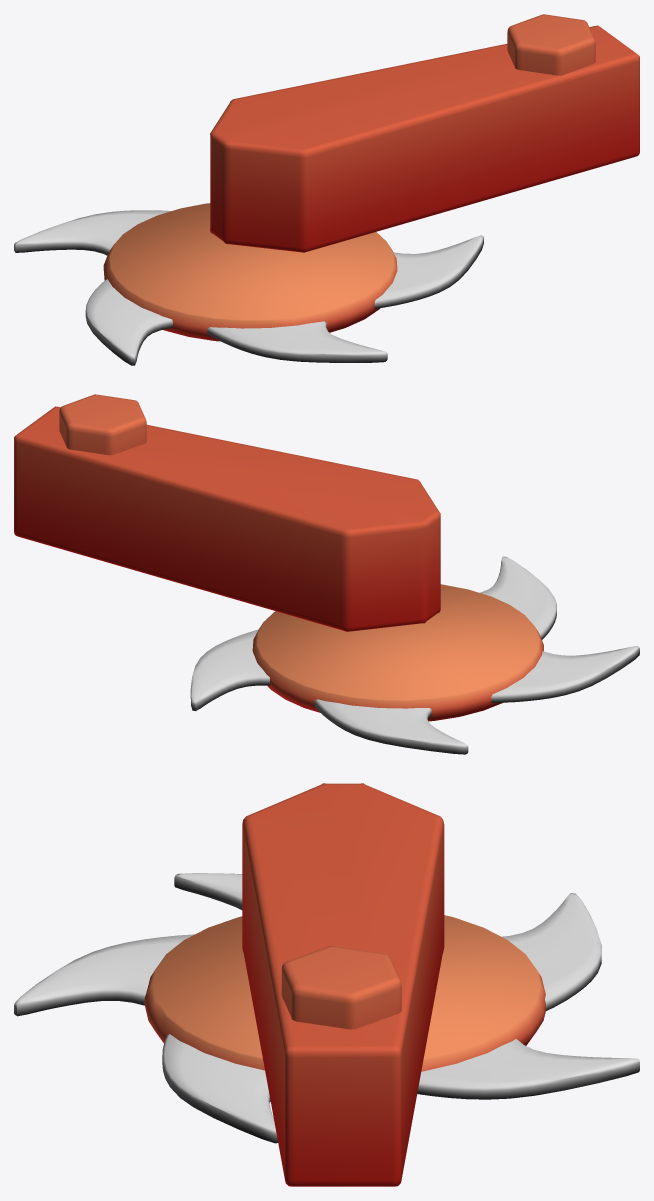
The model's file is testere.fbx.
The picture shows the model from 3 angles, top to bottom: view 1: azimuth 30°, elevation 25°; view 2: azimuth 150°, elevation 25°; view 3: azimuth 270°, elevation 25°; orthographic projection. The views are drawn at different scales.
Parts seen in each view (by area): view 1: Cube, Circle, Plane; view 2: Cube, Circle, Plane; view 3: Cube, Plane, Circle.
Part boxes in pixels (x1,y1,x2,y2): Cube: (210, 14, 639, 252); Circle: (103, 203, 397, 341); Plane: (14, 210, 483, 365); Cube: (14, 394, 440, 631); Circle: (252, 584, 543, 721); Plane: (190, 556, 639, 754); Cube: (242, 783, 444, 1186); Plane: (14, 873, 639, 1143); Circle: (144, 915, 545, 1071).
Bounding box in the file's own units: 8.58 × 2.67 × 6.2.
1 material, 1 textured.
